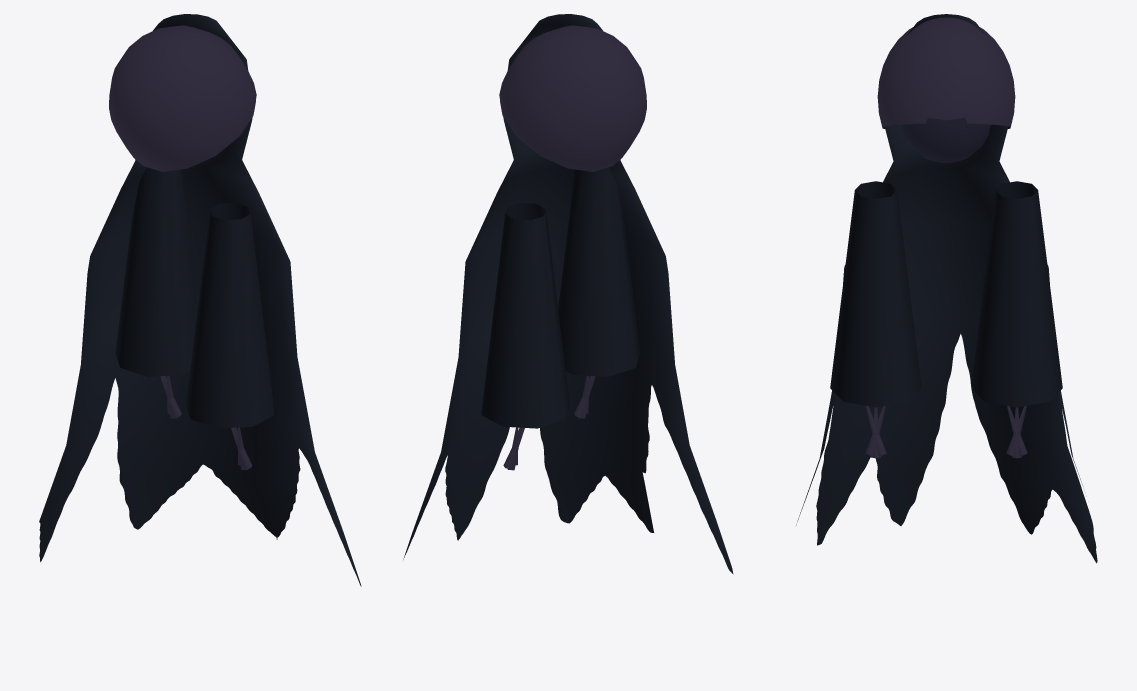
The model's file is espectro.glb.
3 views of the same model, side by side, from view 1: azimuth 30°, elevation 25°; view 2: azimuth 150°, elevation 25°; view 3: azimuth 270°, elevation 25° (orthographic).
Visible parts, largest first — view 1: corpo, ct_110, bracoA, bracoB; view 2: corpo, ct_110, bracoB, bracoA; view 3: corpo, bracoA, bracoB, ct_110.
Boxes of the visible parts, x1,y1,x2,y2 form: corpo: (39,14,361,586); ct_110: (109,25,256,171); bracoA: (186,203,274,428); bracoB: (115,167,197,376); corpo: (403,14,733,574); ct_110: (499,25,646,171); bracoB: (481,203,569,428); bracoA: (558,167,640,376); corpo: (796,14,1097,563); bracoA: (830,181,921,407); bracoB: (971,181,1062,407); ct_110: (877,17,1015,127).
Bounding box in the file's own units: 1 × 1.83 × 1.
Materials: 5 (1 with a texture image).
